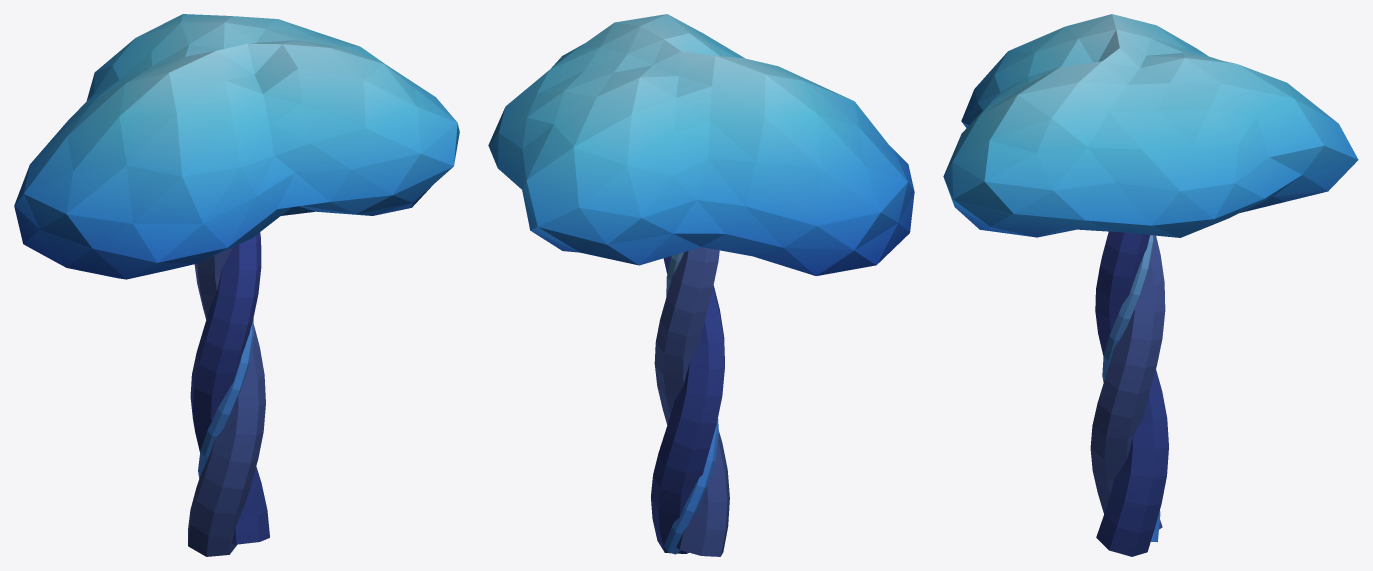
Rendered from Plasmawood_Tree.glb.
The picture shows the model from 3 angles, left to right: view 1: azimuth 30°, elevation 25°; view 2: azimuth 150°, elevation 25°; view 3: azimuth 270°, elevation 25°; orthographic projection. The views are drawn at different scales.
Visible parts, largest first — view 1: Plasmawood_Tree; view 2: Plasmawood_Tree; view 3: Plasmawood_Tree.
Part boxes in pixels (x1=…): Plasmawood_Tree: x1=14, y1=14, x2=459, y2=556; Plasmawood_Tree: x1=488, y1=14, x2=914, y2=556; Plasmawood_Tree: x1=943, y1=14, x2=1358, y2=556.
Bounding box in the file's own units: 9.94 × 12.57 × 9.36.
